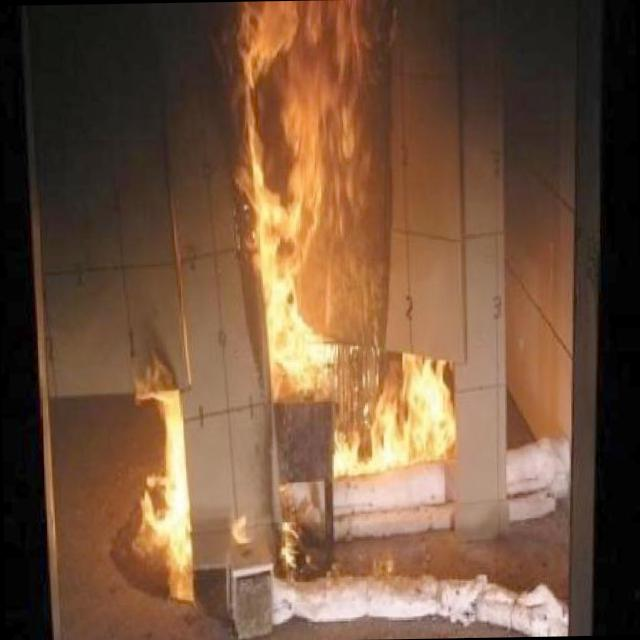Fire_Dangerous: (220, 1, 478, 492), (110, 371, 202, 604)
